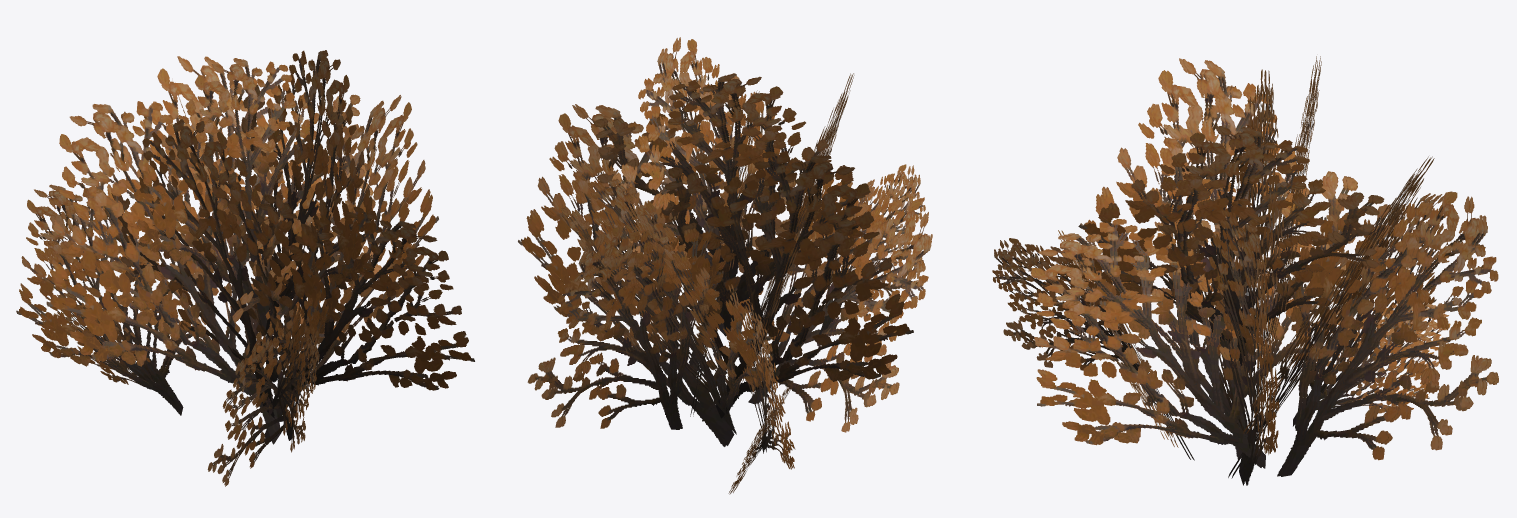
The model's file is xy_plant02.FBX.
3 renders of one model, left to right at view 1: azimuth 30°, elevation 25°; view 2: azimuth 150°, elevation 25°; view 3: azimuth 270°, elevation 25°, orthographic. The views are drawn at different scales.
Visible parts, largest first — view 1: xy_plant02; view 2: xy_plant02; view 3: xy_plant02.
Part boxes in pixels (bbox=[...]): xy_plant02: bbox=[16, 50, 474, 486]; xy_plant02: bbox=[518, 37, 932, 494]; xy_plant02: bbox=[992, 56, 1498, 485].
Size of the model in its own units: 89.06 by 88.98 by 96.77.
